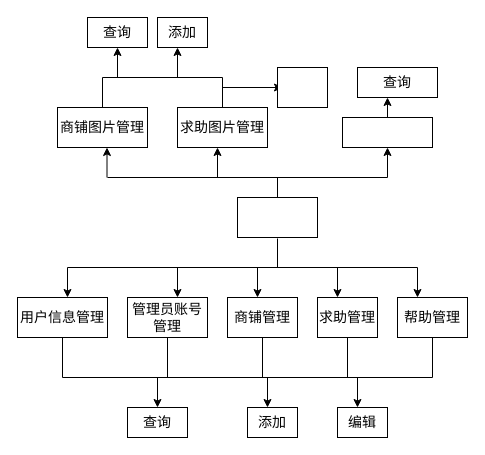
Image size: 485x455. Some labels were removed from this diagram. Each missing label, with the centre of its shape:
删除: point (302, 87)
微信账号管理: point (387, 132)
管理员模块: point (277, 217)
